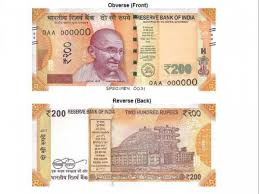twoHundred: (43, 23, 201, 78)
